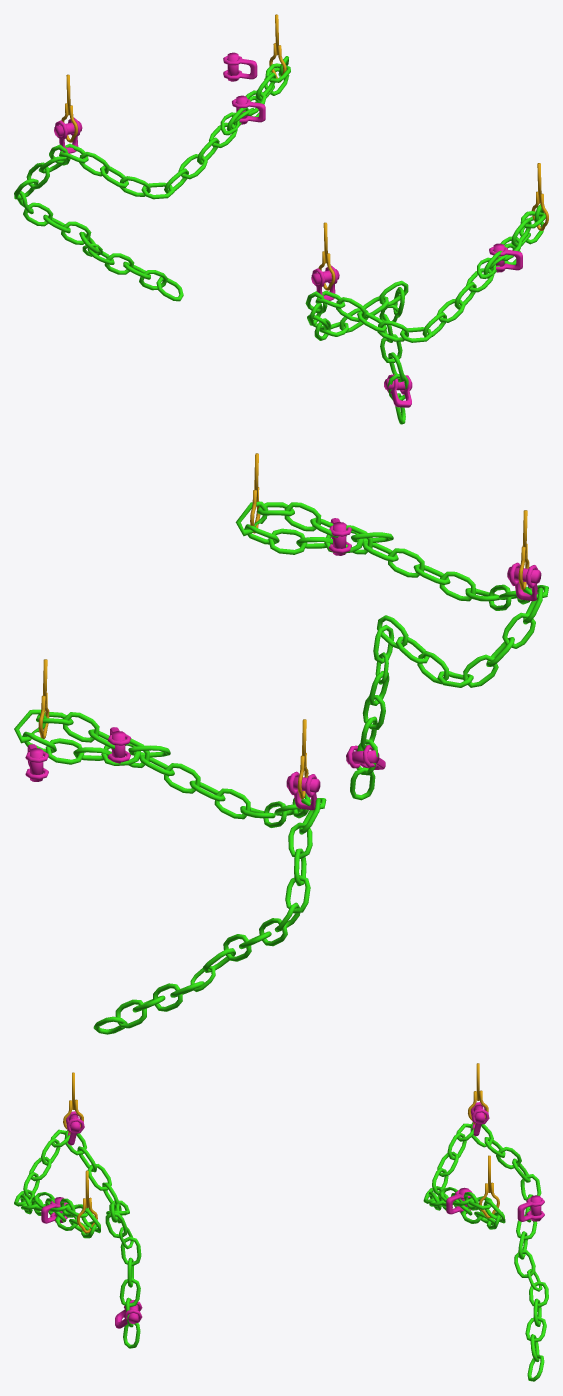
Rendered from Missing eyebolt slings.fbx.
The picture shows the model from 3 angles, top to bottom: view 1: azimuth 30°, elevation 25°; view 2: azimuth 150°, elevation 25°; view 3: azimuth 270°, elevation 25°; orthographic projection. The views are drawn at different scales.
Parts seen in each view (by area): view 1: Chain Links.001, Chain Links.020, Chain Links.003, Chain Links.002, Chain Links.019, Chain Links.021, Chain Links.022, Chain Links.018; view 2: Chain Links.020, Chain Links.001, Chain Links.022, Chain Links.019, Chain Links.002; view 3: Chain Links.001, Chain Links.020, Chain Links.003, Chain Links.002, Chain Links.019, Chain Links.022.
Boxes of the visible parts, box(x1,y1,x2,y2) form: Chain Links.001: box(14, 56, 290, 301); Chain Links.020: box(305, 204, 545, 424); Chain Links.003: box(223, 52, 257, 81); Chain Links.002: box(384, 374, 412, 407); Chain Links.019: box(54, 117, 82, 153); Chain Links.021: box(489, 243, 522, 272); Chain Links.022: box(311, 265, 339, 300); Chain Links.018: box(232, 95, 265, 124); Chain Links.020: box(235, 501, 548, 800); Chain Links.001: box(14, 709, 326, 1034); Chain Links.022: box(507, 562, 541, 601); Chain Links.019: box(286, 771, 320, 810); Chain Links.002: box(346, 745, 385, 769); Chain Links.001: box(423, 1122, 548, 1381); Chain Links.020: box(14, 1129, 141, 1348); Chain Links.003: box(517, 1195, 544, 1221); Chain Links.002: box(115, 1300, 142, 1328); Chain Links.019: box(471, 1102, 489, 1136); Chain Links.022: box(66, 1111, 84, 1145).
Size of the model in its own units: 102 by 95.25 by 177.
